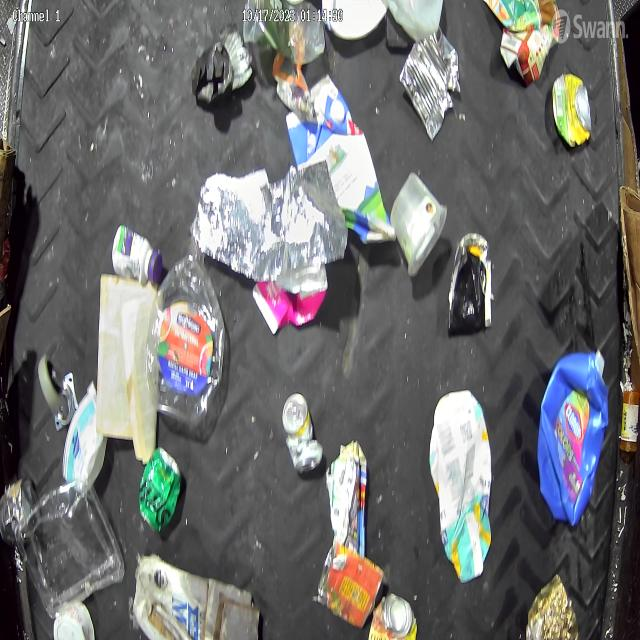can: (400, 24, 461, 144), (316, 543, 383, 631), (138, 447, 182, 536), (280, 390, 322, 476), (554, 71, 593, 147), (368, 590, 417, 640)
non_white_jug: (536, 346, 611, 530)
plastic_bottle: (147, 244, 225, 426)
